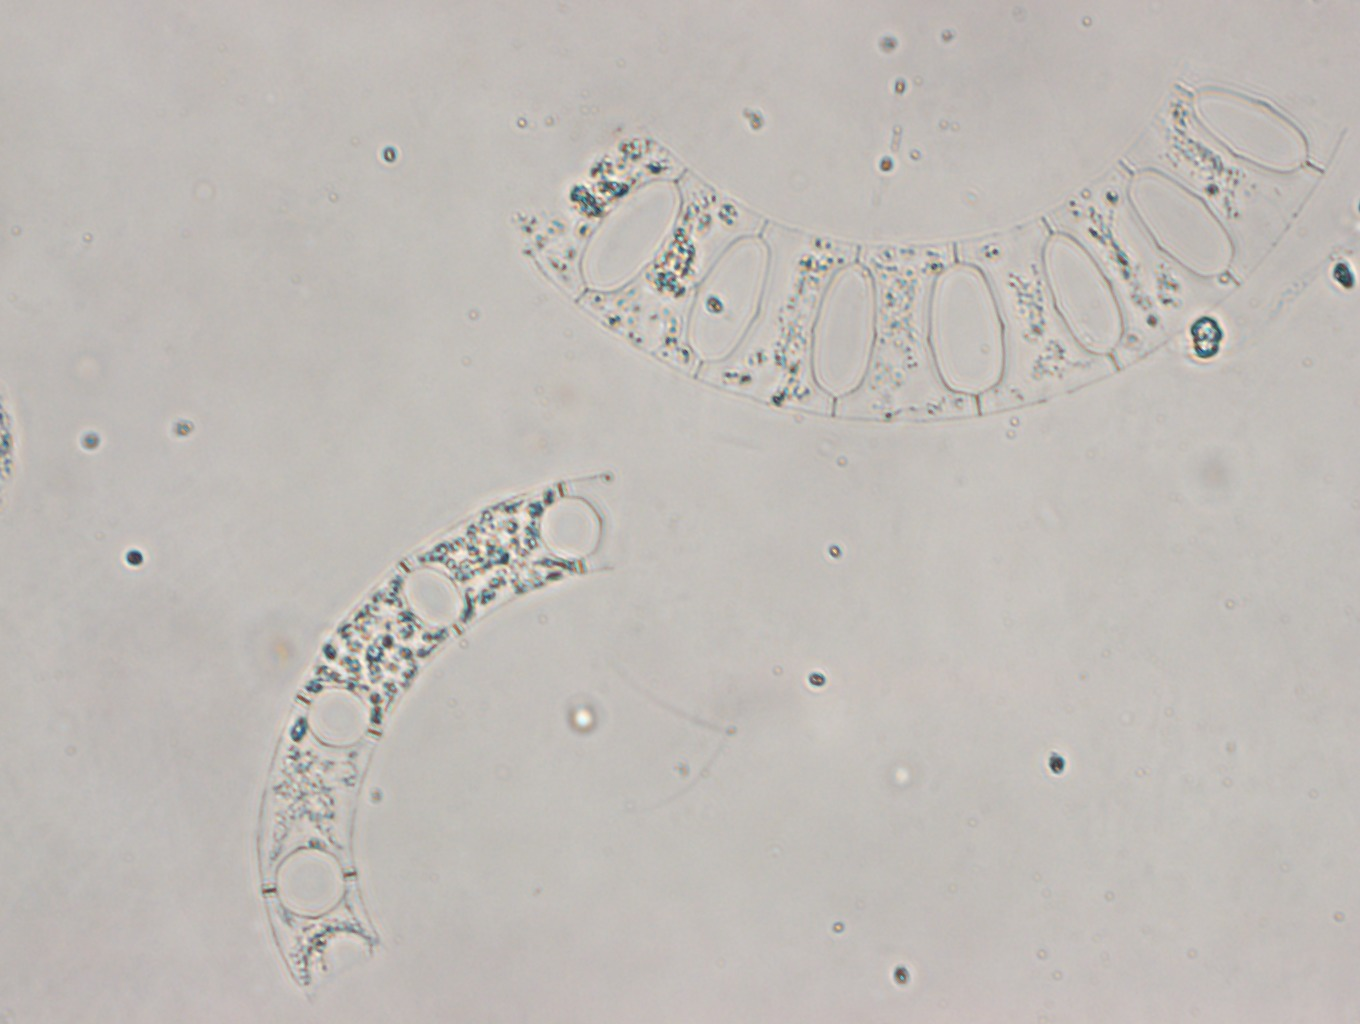eucampia: (513, 55, 1349, 428), (250, 469, 618, 999)
